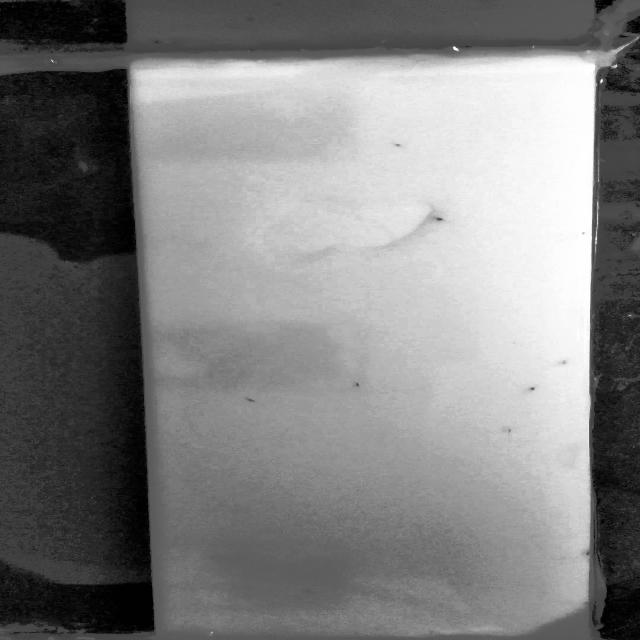shrimp: (526, 386, 544, 398), (243, 395, 264, 404), (554, 356, 568, 369), (302, 586, 317, 597), (577, 549, 595, 558), (390, 140, 406, 150), (352, 382, 366, 392), (504, 426, 516, 436), (432, 217, 449, 223)
